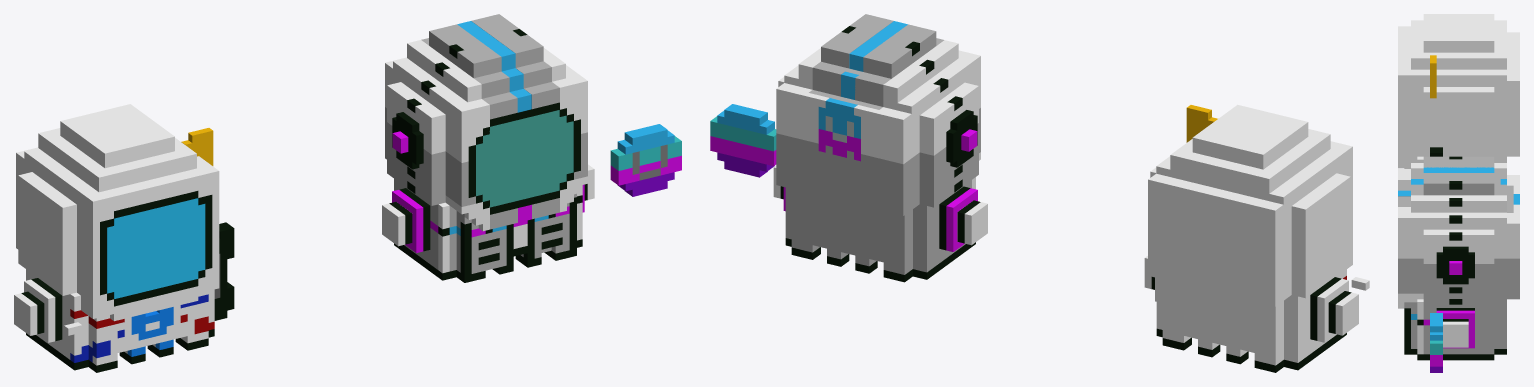
File: 69- aastronaut+lil_bubble.fbx
The picture shows the model from 3 angles, left to right: view 1: azimuth 30°, elevation 25°; view 2: azimuth 150°, elevation 25°; view 3: azimuth 270°, elevation 25°; orthographic projection. The views are drawn at different scales.
Parts seen in each view (by area): view 1: 255, 252, 253, 255.1, 252.1, 256, 254, 256.1, 257, 252.2, 253.1, Saleev_R_253 (+1 smaller); view 2: 255, 252, 256, 253, 254, 252.2, Saleev_R_253, Saleev_R_256, 253.1, 257; view 3: 255, 252, 253, 252.2, 254, Saleev_L_253, 253.1, 257, 256.
Boxes of the visible parts, <box> form: 255: <box>16,104,219,321</box>; 252: <box>385,14,587,231</box>; 253: <box>394,179,582,282</box>; 255.1: <box>107,198,205,298</box>; 252.1: <box>476,110,573,207</box>; 256: <box>24,269,214,372</box>; 254: <box>610,124,681,196</box>; 256.1: <box>70,294,214,362</box>; 257: <box>181,128,234,320</box>; 252.2: <box>392,21,531,222</box>; 253.1: <box>392,184,584,252</box>; Saleev_R_253: <box>382,202,412,246</box>; 255: <box>1148,104,1352,306</box>; 252: <box>776,14,980,215</box>; 256: <box>1155,268,1369,372</box>; 253: <box>785,177,975,282</box>; 254: <box>710,104,776,177</box>; 252.2: <box>818,21,977,161</box>; Saleev_R_253: <box>957,200,987,245</box>; Saleev_R_256: <box>1328,291,1358,335</box>; 253.1: <box>783,187,977,251</box>; 257: <box>1186,105,1217,142</box>; 255: <box>1398,14,1519,168</box>; 252: <box>1398,156,1519,308</box>; 253: <box>1404,299,1506,360</box>; 252.2: <box>1398,167,1519,274</box>; 254: <box>1430,313,1442,372</box>; Saleev_L_253: <box>1443,319,1468,347</box>; 253.1: <box>1411,310,1474,348</box>; 257: <box>1430,55,1442,156</box>; 256: <box>1404,156,1506,168</box>.
Size of the model in its own units: 918 by 280 by 190.
16 materials, 15 textured.
